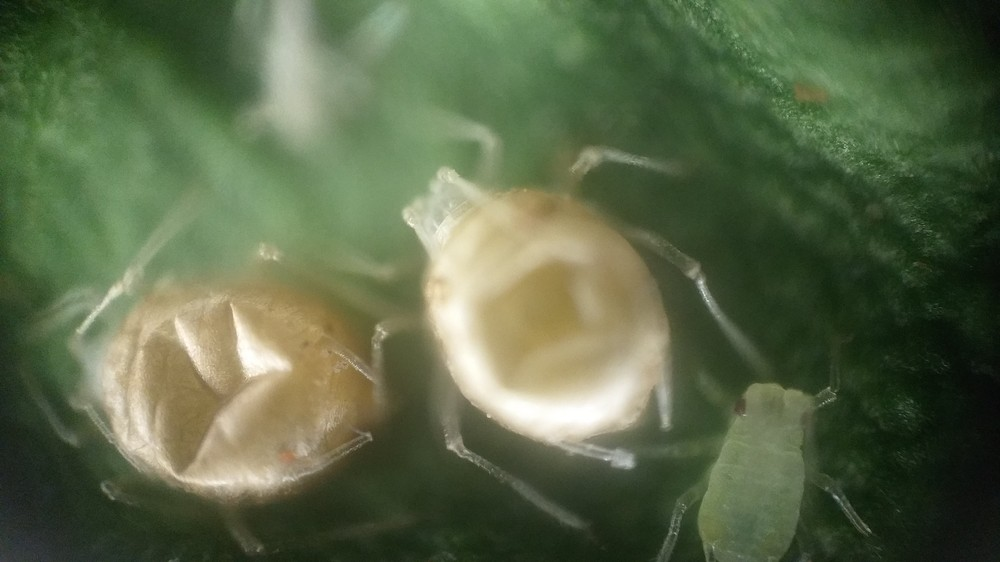Pulgon: (310, 113, 734, 538), (8, 219, 415, 543), (627, 339, 891, 561)
